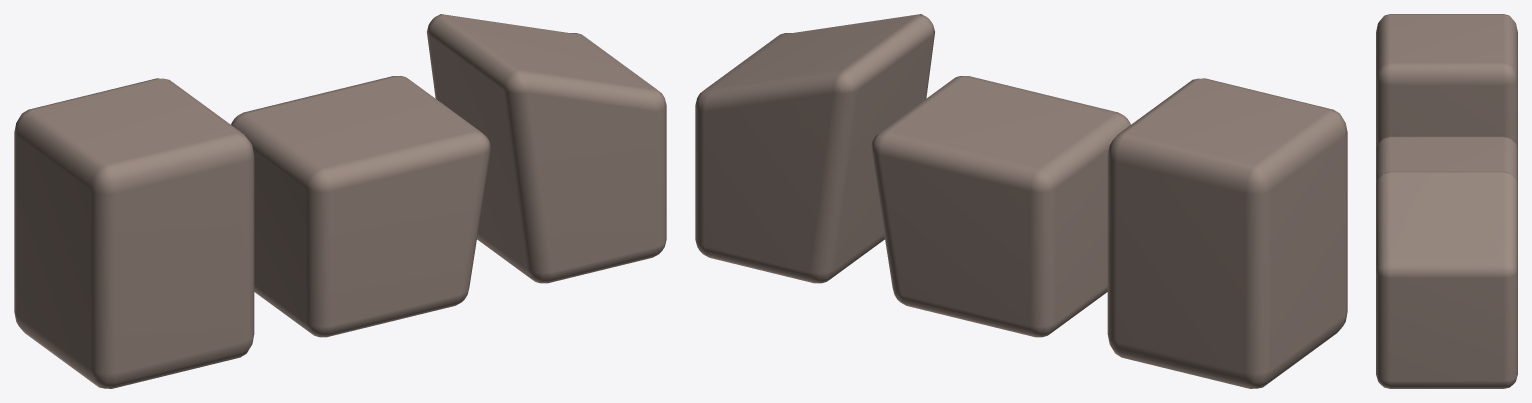
The model's file is rocks.fbx.
The picture shows the model from 3 angles, left to right: view 1: azimuth 30°, elevation 25°; view 2: azimuth 150°, elevation 25°; view 3: azimuth 270°, elevation 25°; orthographic projection. The views are drawn at different scales.
Visible parts, largest first — view 1: pCube5, pCube3, pCube4; view 2: pCube5, pCube3, pCube4; view 3: pCube4, pCube5, pCube3.
Part boxes in pixels (x1,y1,x2,y2): pCube5: (14, 78, 254, 388); pCube3: (231, 76, 490, 337); pCube4: (427, 14, 666, 283); pCube5: (1107, 78, 1347, 388); pCube3: (871, 76, 1130, 337); pCube4: (695, 14, 934, 283); pCube4: (1376, 171, 1517, 388); pCube5: (1376, 14, 1517, 149); pCube3: (1376, 136, 1517, 185).
Size of the model in its own units: 357 by 133 by 100.
